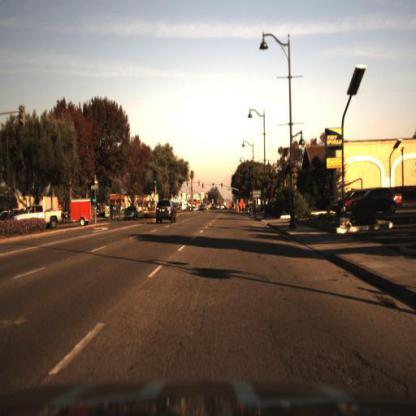biker: (241, 197, 250, 219)
car: (13, 193, 97, 227), (347, 187, 412, 224), (352, 185, 406, 216), (148, 192, 182, 226), (330, 187, 356, 225), (330, 189, 359, 219), (122, 203, 142, 226)
trafficLight-Green: (152, 174, 160, 190)
trafficLight-GreenLeft: (90, 187, 100, 205), (153, 170, 158, 186)
